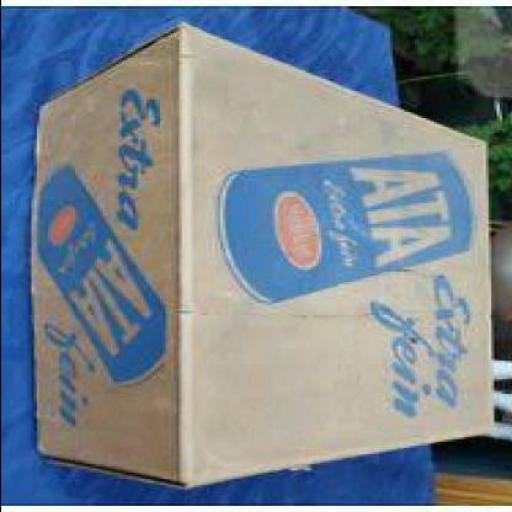cardboard: (35, 19, 493, 487)
